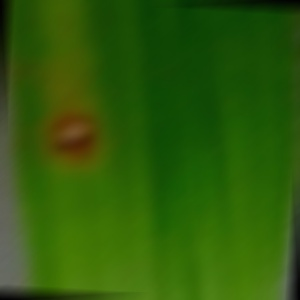Brown_Spot: (43, 79, 126, 174)
